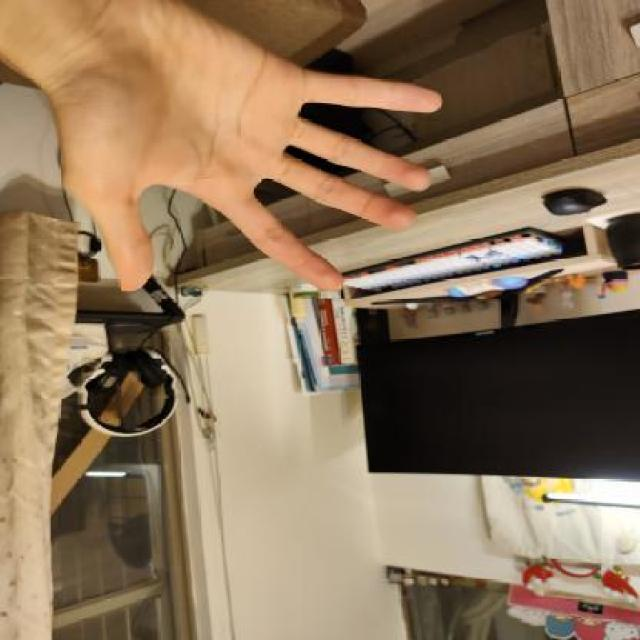bare_hand: (12, 2, 463, 318)
